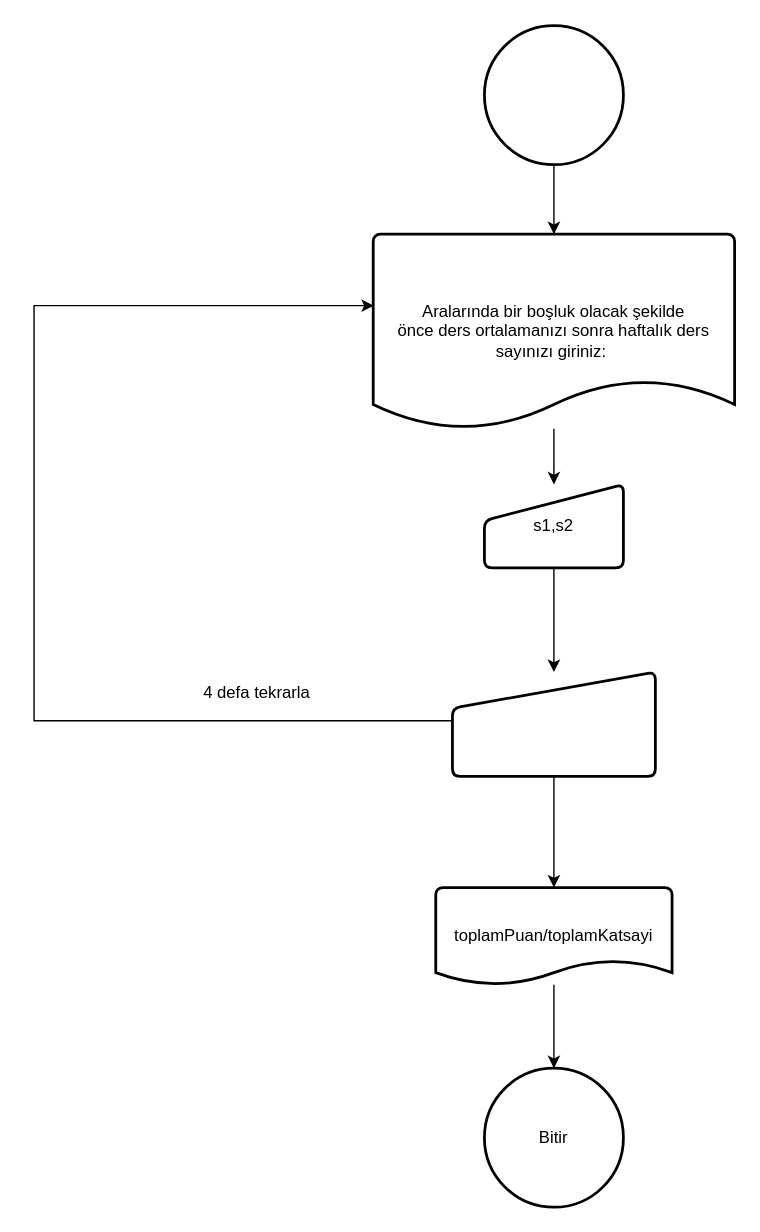
Image size: 760x1232. Some labels were removed from this diagram. Here are the shapes that lost their labels. From the top down, the box of each, then its label:
(482, 24, 624, 165): Başla
(450, 670, 656, 777): toplamPuan=s1*s2 toplamKatsayi=s2
